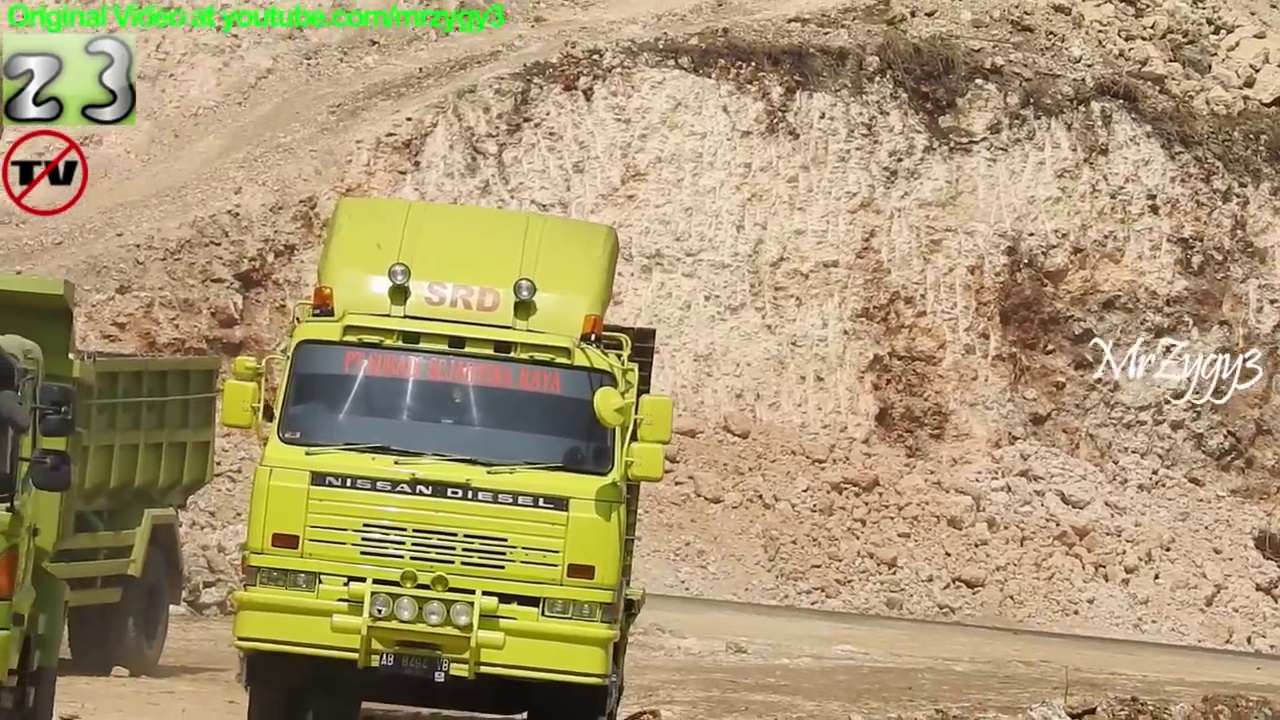truck: (217, 192, 685, 720), (1, 270, 222, 682), (1, 331, 78, 720)
